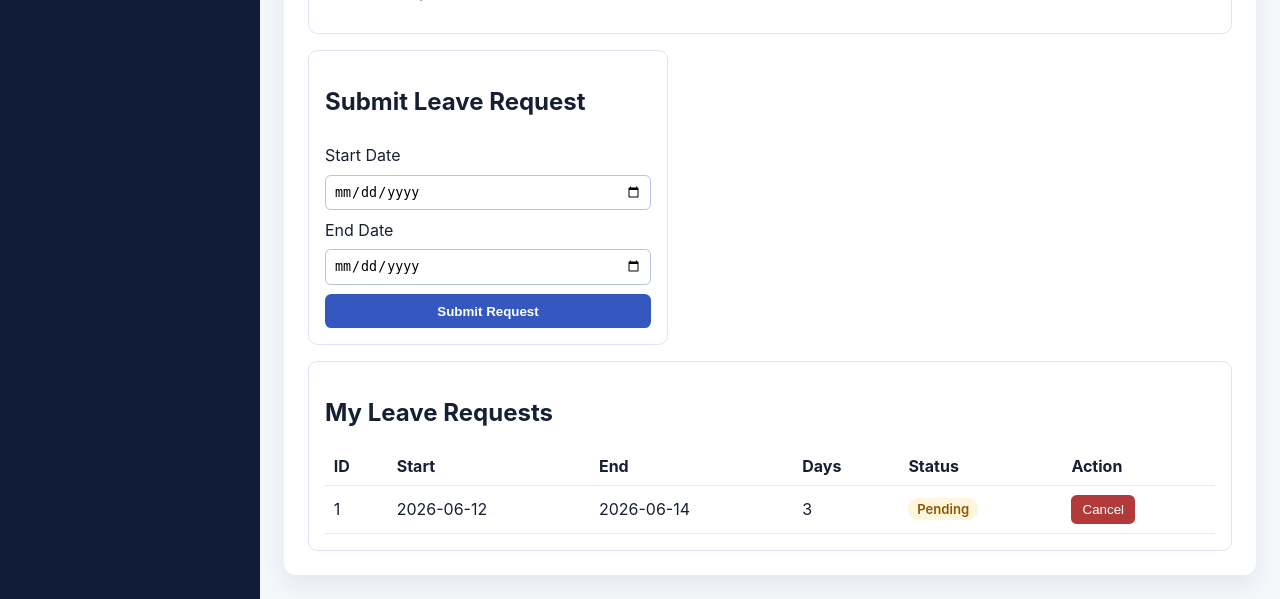
Scenario: App › employee can cancel own pending request
(page scrolled)
What coordinates should you click on to do the following:
click the button with aria-label "Cancel request 1"
I would click on:
 (1103, 509)
Its box is [1071, 494, 1135, 524].
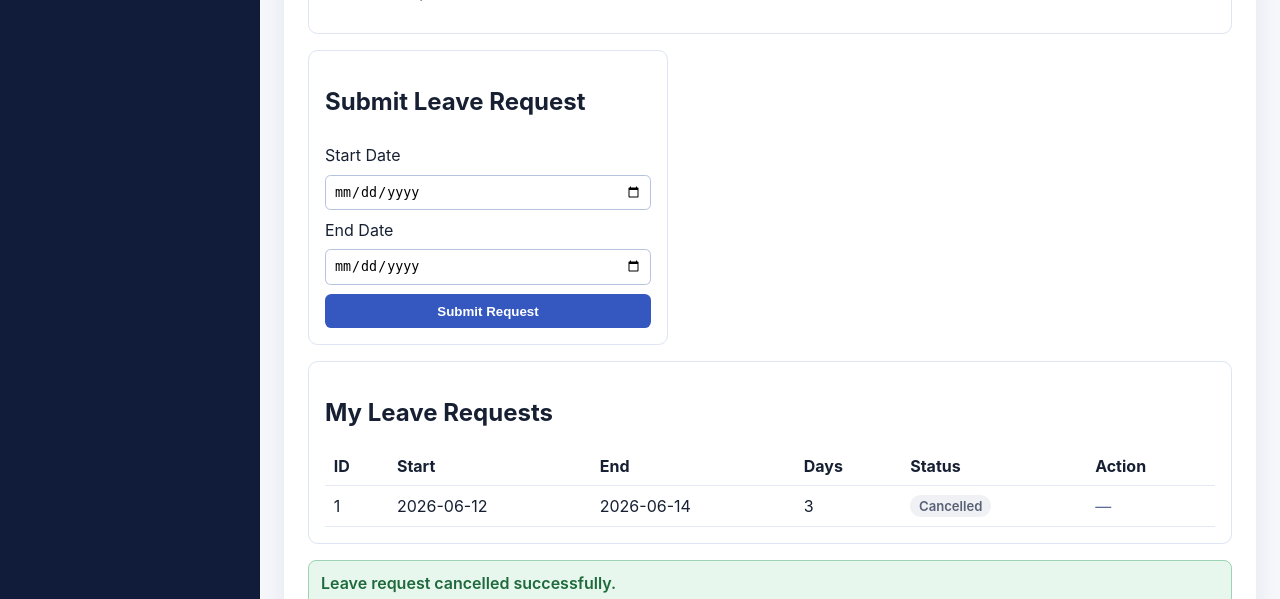
Now the message reads "Leave request cancelled successfully.", box [321, 573, 616, 593]
Now the text "Cancelled" is shown, box [910, 494, 991, 517]
